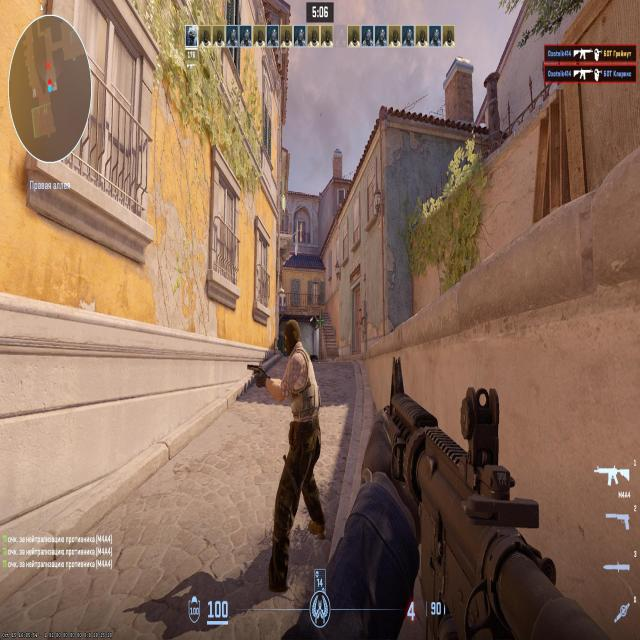T: (283, 322, 319, 490)
T_heat: (288, 328, 298, 370)
